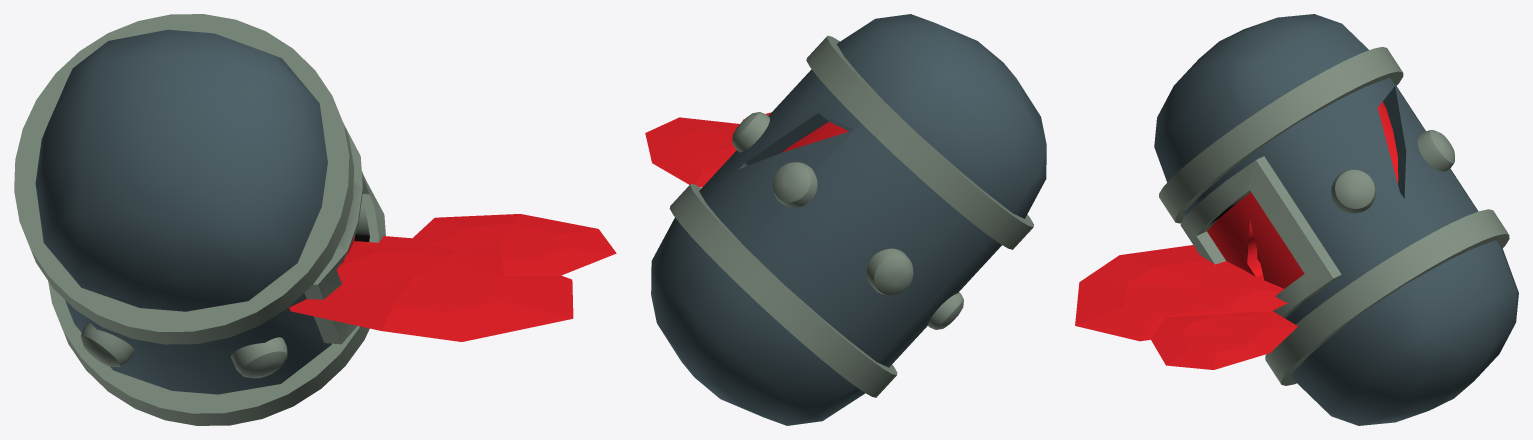
The model's file is CapsuleCrash.fbx.
3 views of the same model, side by side, from view 1: azimuth 30°, elevation 25°; view 2: azimuth 150°, elevation 25°; view 3: azimuth 270°, elevation 25° (orthographic). The views are drawn at different scales.
Parts seen in each view (by area): view 1: Cube, Cylinder.001, Sphere, Cylinder, Sphere.001, Plane, Cylinder.002; view 2: Cube, Cylinder.001, Cylinder, Cylinder.002, Sphere.001, Cube.001; view 3: Cube, Sphere, Cylinder.001, Cylinder, Plane, Sphere.001, Cylinder.002, Cube.001.
Part boxes in pixels (x1,y1,x2,y2): Cube: (35,29,355,394); Cylinder.001: (14,14,354,344); Sphere: (289,236,573,341); Cylinder: (48,177,369,425); Sphere.001: (413,214,616,276); Plane: (304,123,385,344); Cylinder.002: (80,322,287,378); Cube: (651,14,1046,425); Cylinder.001: (806,35,1033,249); Cylinder: (669,183,897,397); Cylinder.002: (732,112,963,329); Sphere.001: (645,117,739,187); Cube.001: (781,122,848,152); Cube: (1154,14,1518,425); Sphere: (1075,245,1287,341); Cylinder.001: (1159,47,1403,223); Cylinder: (1265,209,1509,385); Plane: (1180,156,1341,318); Sphere.001: (1150,311,1297,369); Cylinder.002: (1331,130,1454,213); Cube.001: (1257,101,1398,262).
Bounding box in the file's own units: 400 × 318 × 375.
